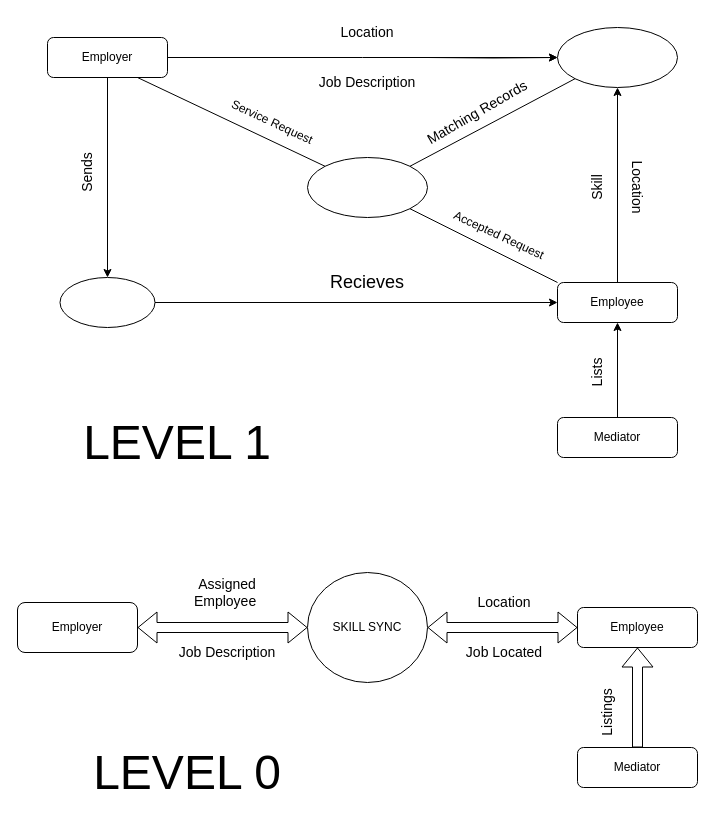
Some shapes in this 715 by 818 pixel diagram are drawn without their labels. Here are the shapes that lost their labels. From the top down, the box of each, then its label:
(556, 26, 678, 88): Check
(306, 156, 428, 218): DISPLAY
(59, 276, 155, 328): REQUEST
